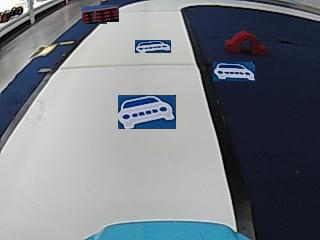bridge: (224, 30, 265, 55)
